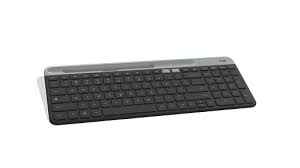keyboard: (32, 56, 269, 121)
